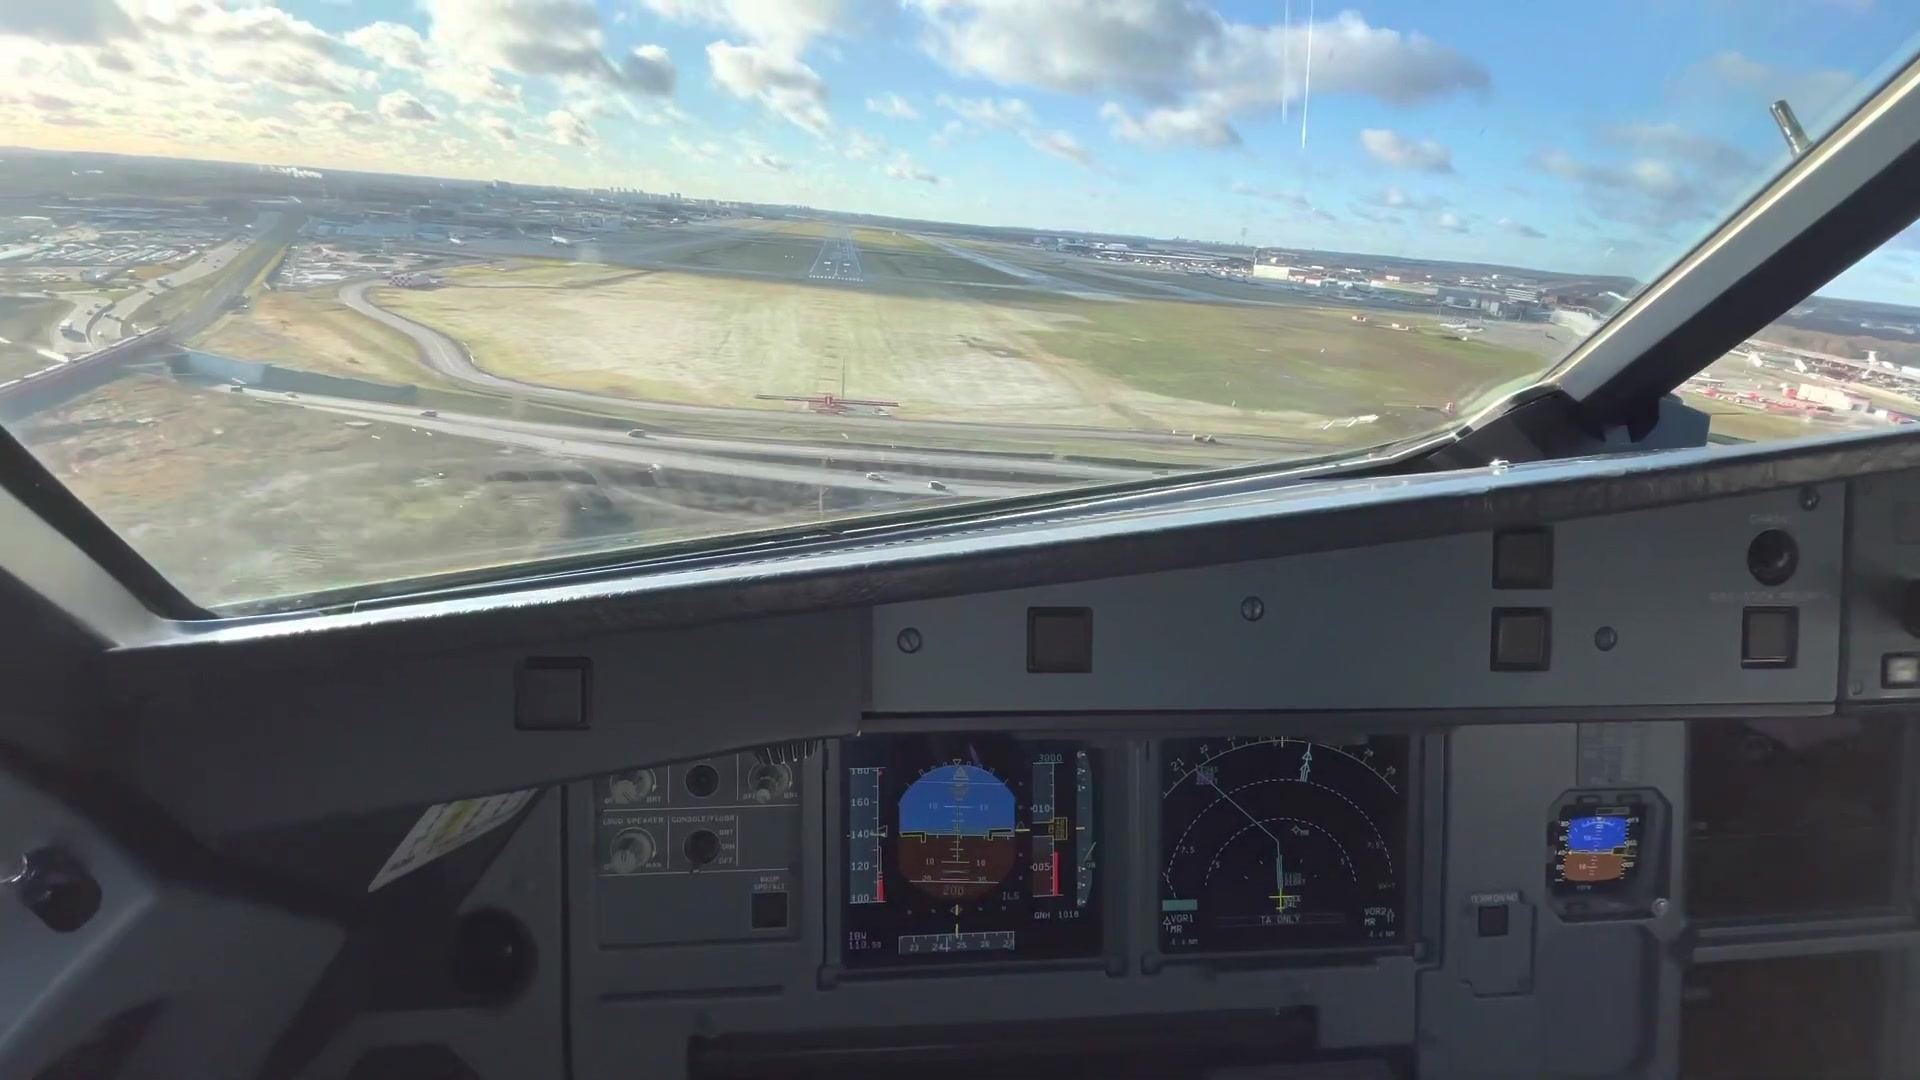entrance: (808, 274, 862, 282)
runway: (806, 231, 866, 286)
